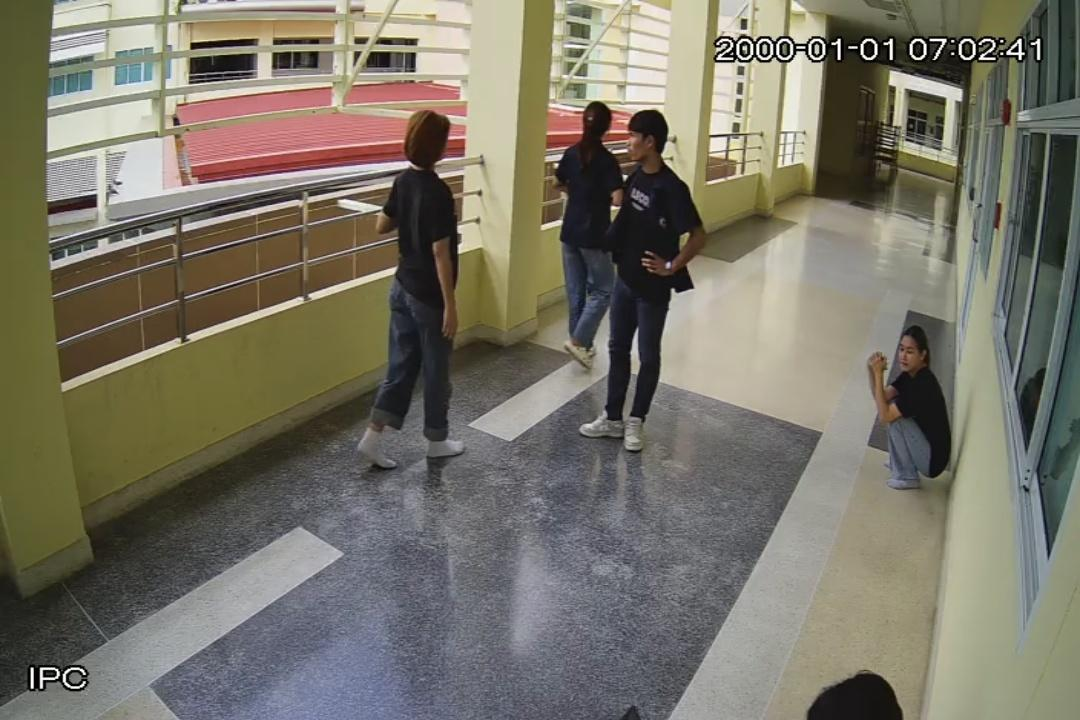normal: (570, 106, 708, 460), (360, 100, 470, 472), (548, 98, 616, 372), (862, 314, 954, 490)
